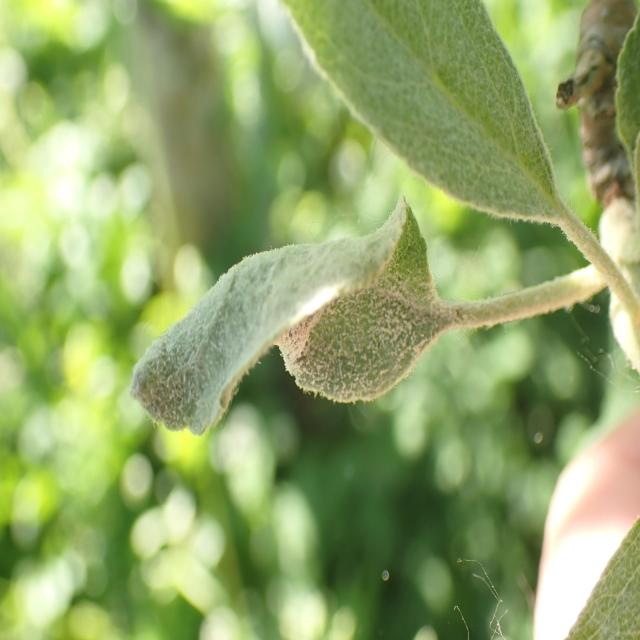Powdery_mildew: (258, 0, 606, 269), (130, 199, 447, 437), (447, 438, 448, 454)
